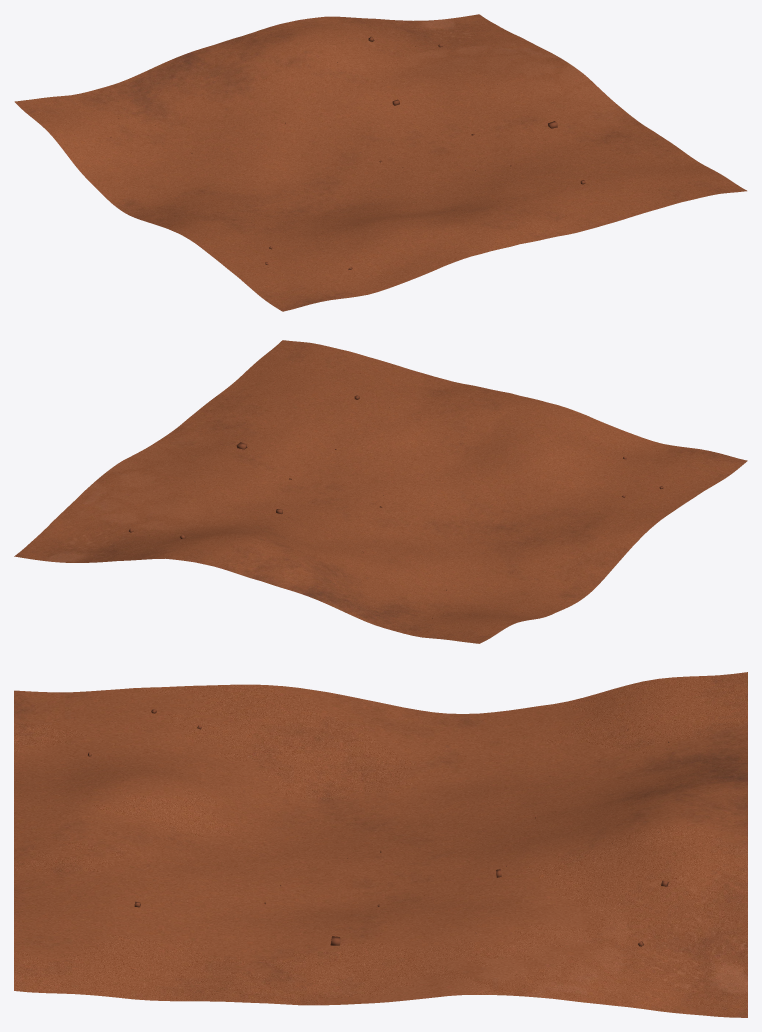
The model's file is mars_surface-2.glb.
The picture shows the model from 3 angles, top to bottom: view 1: azimuth 30°, elevation 25°; view 2: azimuth 150°, elevation 25°; view 3: azimuth 270°, elevation 25°; orthographic projection. The views are drawn at different scales.
Visible parts, largest first — view 1: mars_surface; view 2: mars_surface; view 3: mars_surface.
Part boxes in pixels (<box>): mars_surface: <box>14,14,746,311</box>; mars_surface: <box>14,340,747,643</box>; mars_surface: <box>14,672,747,1017</box>.
Bounding box in the file's own units: 5 × 0.5 × 5.
1 material, 1 textured.
